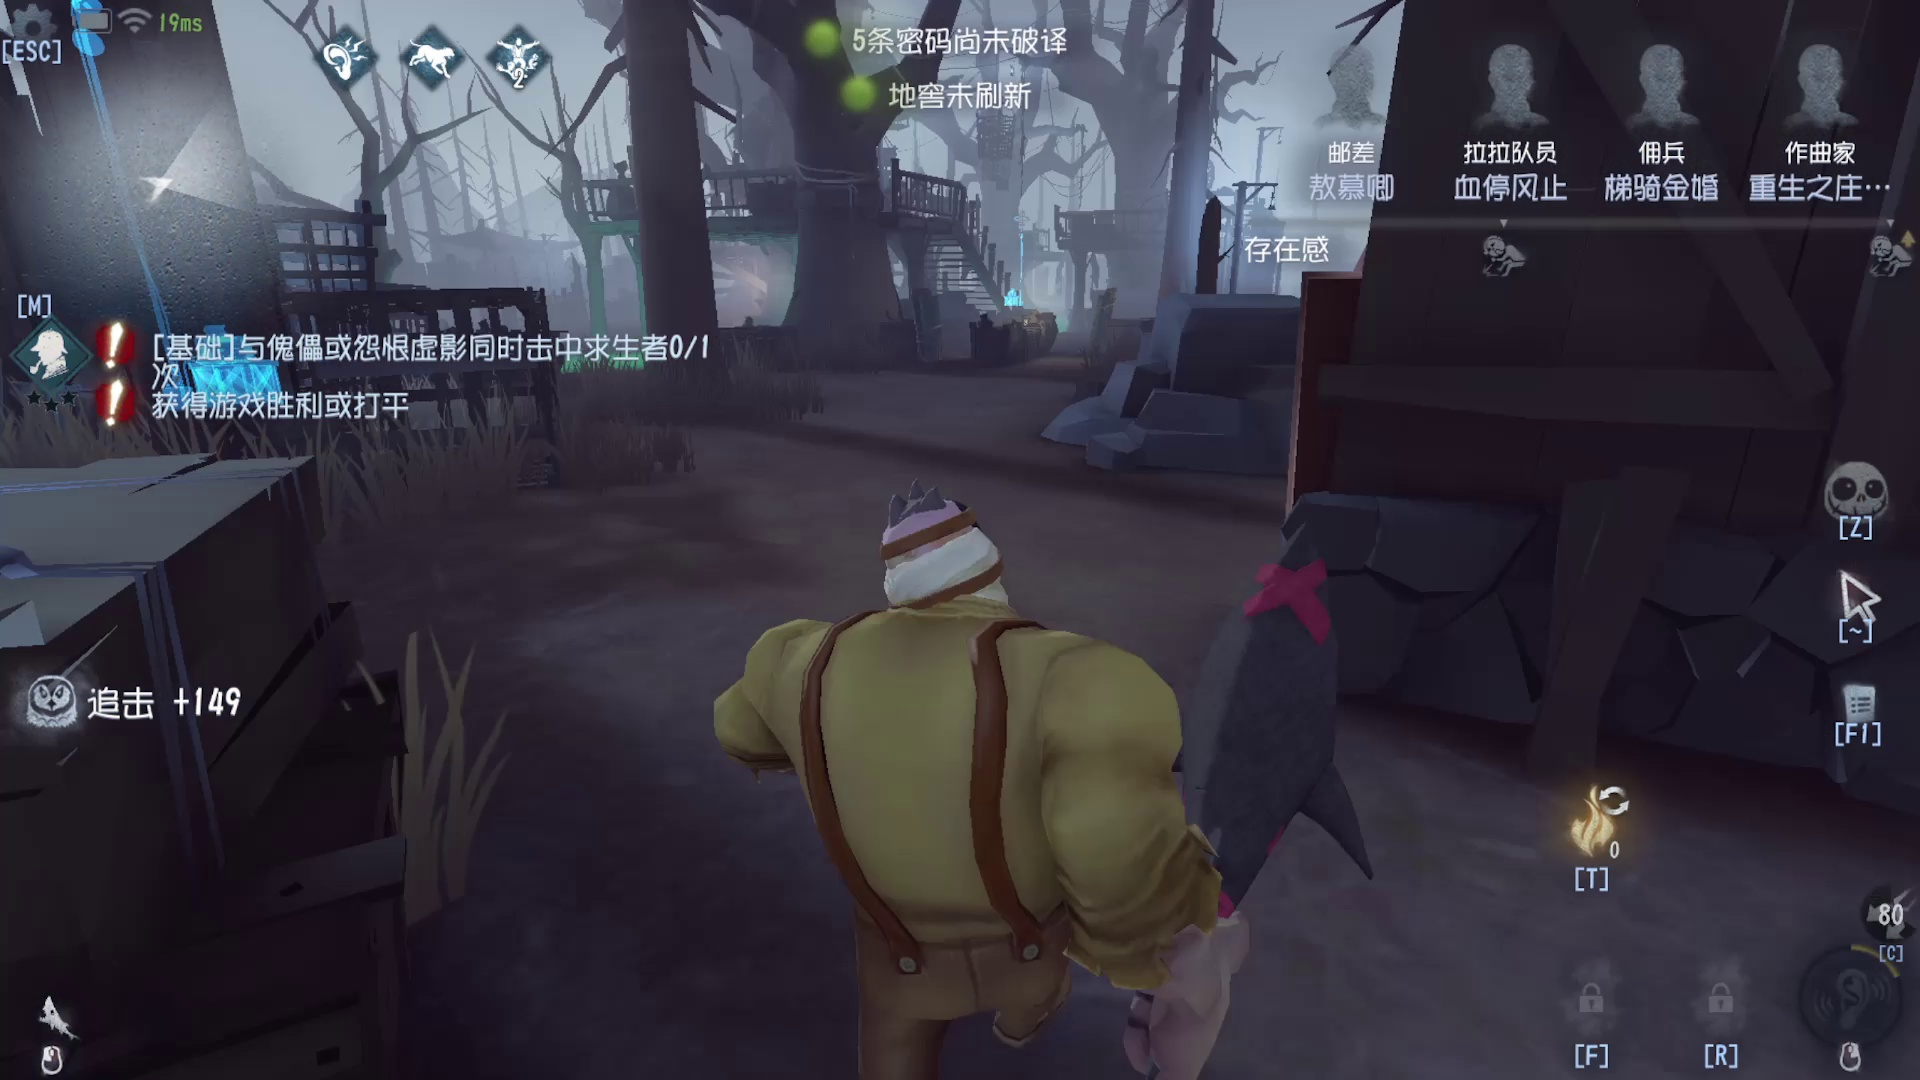密码机: (40, 1, 352, 448), (981, 119, 1110, 363)
木板: (902, 276, 945, 361)
